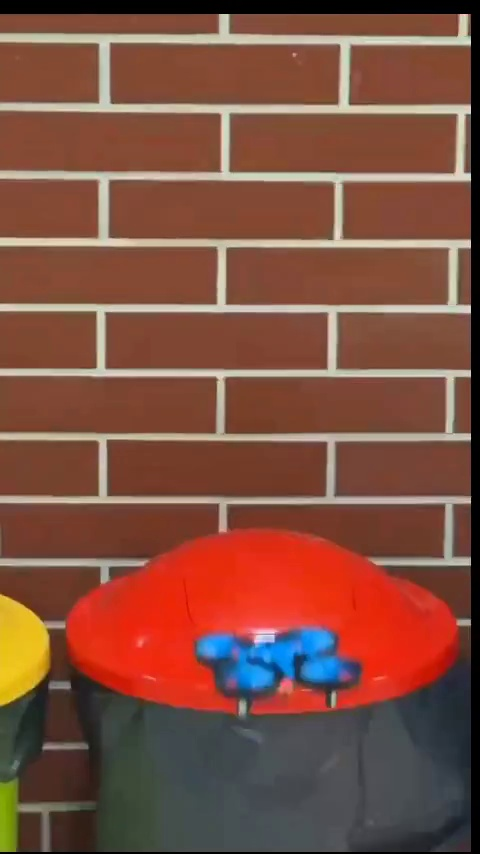drone: (195, 631, 359, 716)
